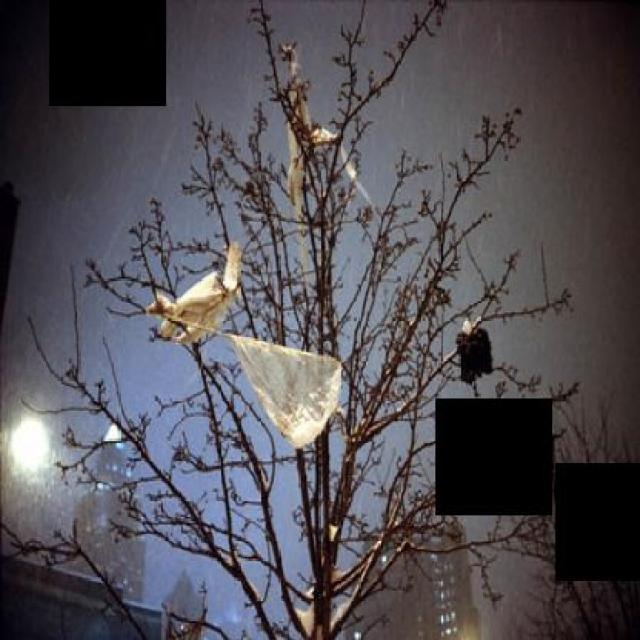plastic bag: (149, 238, 342, 444), (265, 39, 380, 283)
